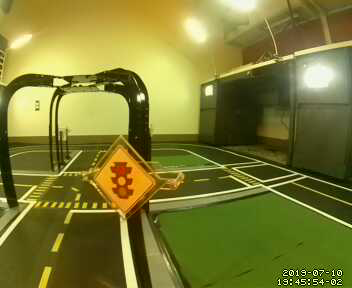Traffic light sign: (95, 143, 157, 221)
